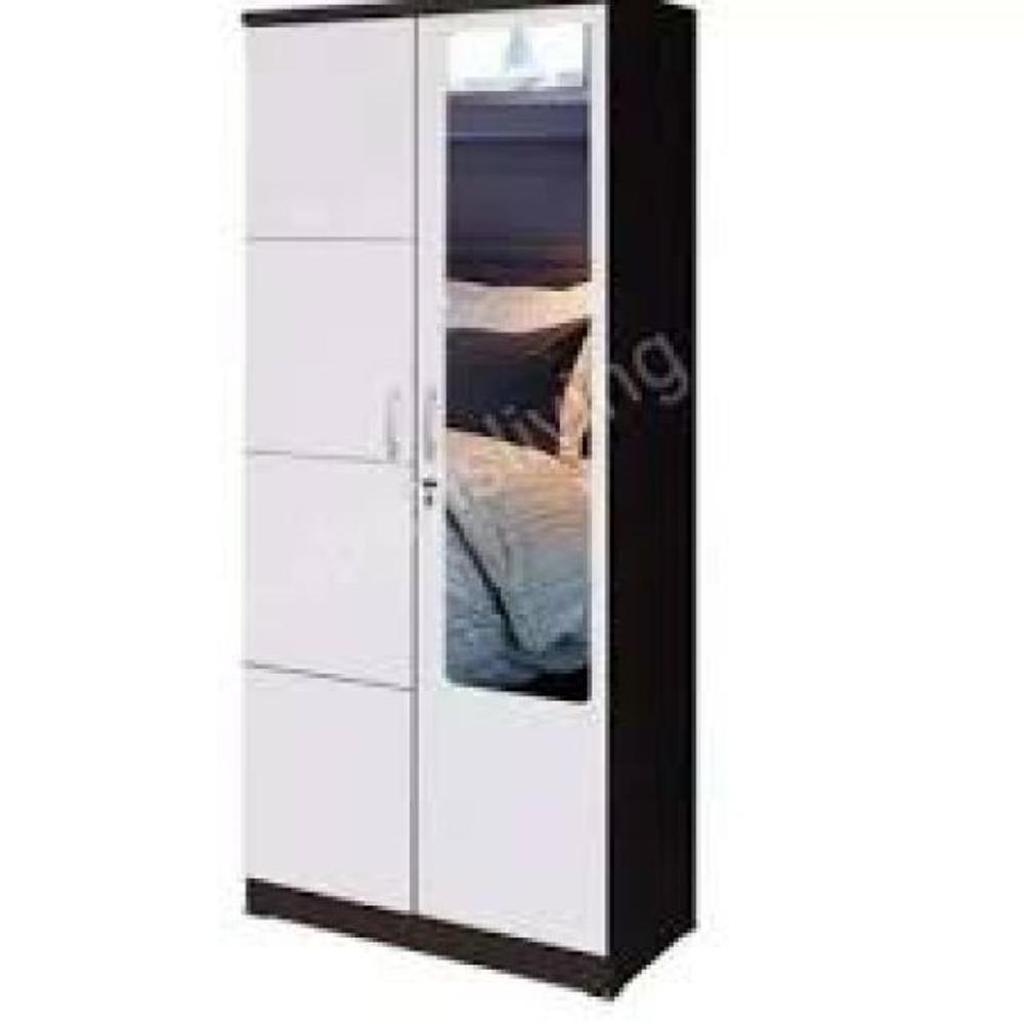cabinet: (242, 0, 694, 1014)
